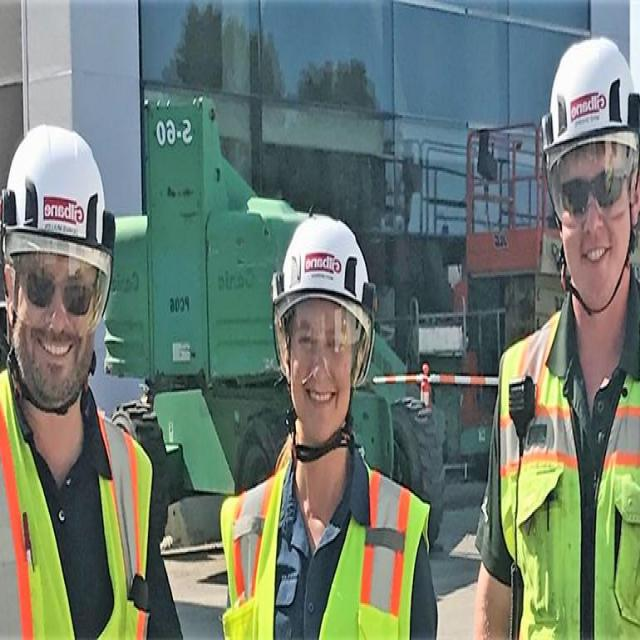Reflective-Jacket: (472, 273, 640, 640), (0, 365, 161, 640), (220, 454, 432, 637)
Safety-Helmet: (0, 114, 122, 275), (267, 206, 382, 333), (538, 28, 640, 161)
